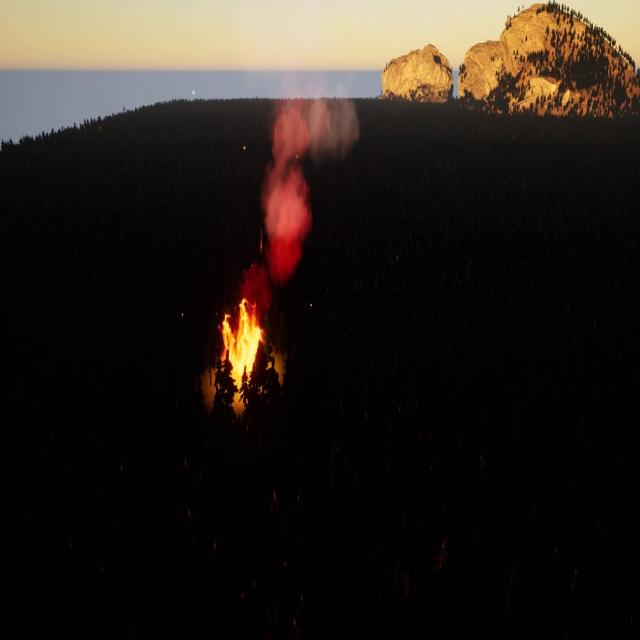fire: (220, 305, 272, 388)
smoke: (244, 84, 361, 300)
